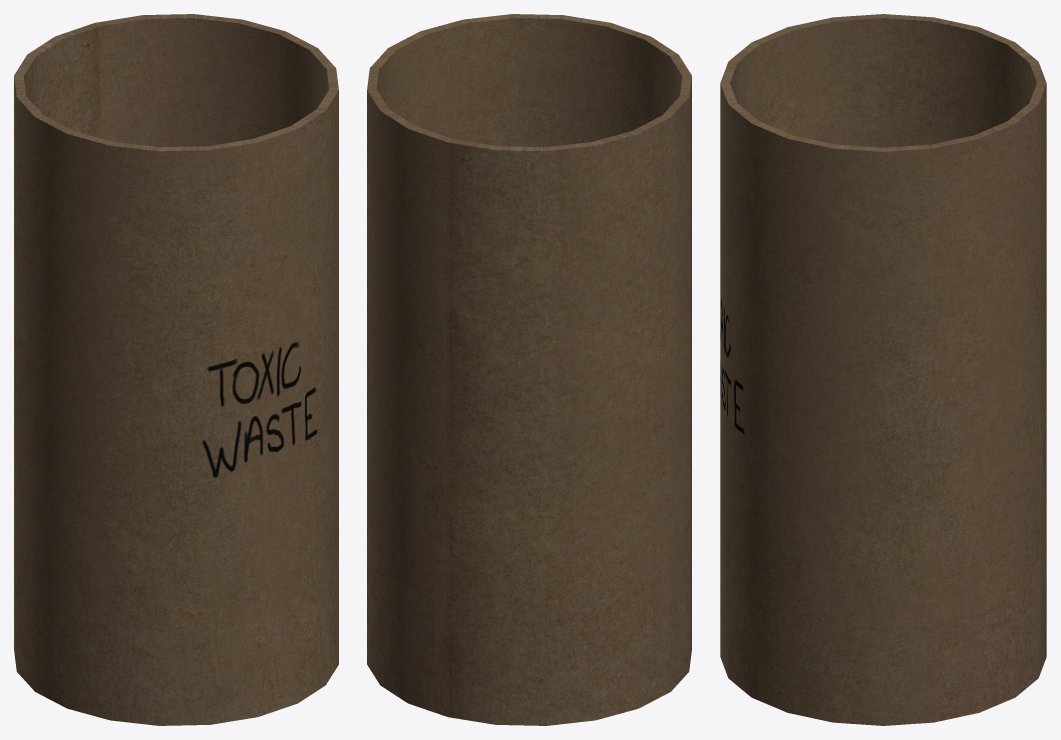
Rendered from Industrialist Toxic Waste Barrel.fbx.
3 views of the same model, side by side, from view 1: azimuth 30°, elevation 25°; view 2: azimuth 150°, elevation 25°; view 3: azimuth 270°, elevation 25° (orthographic).
Visible parts, largest first — view 1: Industrialist_Toxic_Waste_Bin_3; view 2: Industrialist_Toxic_Waste_Bin_3; view 3: Industrialist_Toxic_Waste_Bin_3.
Part boxes in pixels (<box>): Industrialist_Toxic_Waste_Bin_3: <box>14,14,338,725</box>; Industrialist_Toxic_Waste_Bin_3: <box>367,14,691,725</box>; Industrialist_Toxic_Waste_Bin_3: <box>720,14,1046,725</box>.
Bounding box in the file's own units: 18.78 × 36.45 × 18.78.
Materials: 1 (1 with a texture image).
